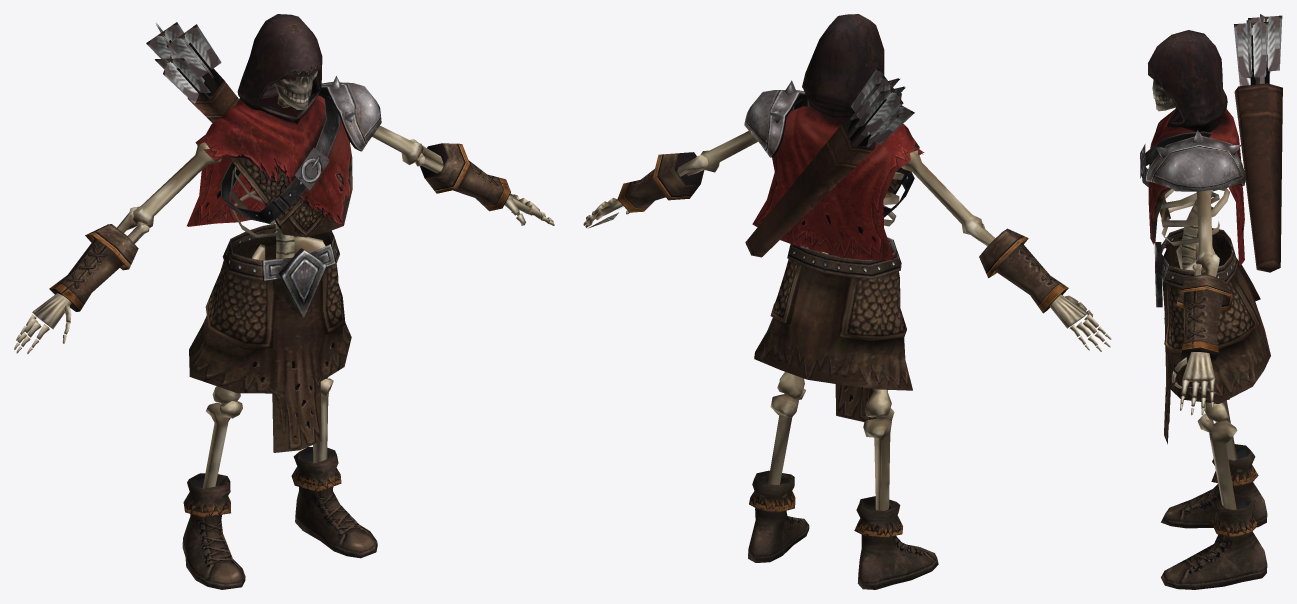
The model's file is Archer.fbx.
3 views of the same model, side by side, from view 1: azimuth 30°, elevation 25°; view 2: azimuth 150°, elevation 25°; view 3: azimuth 270°, elevation 25° (orthographic). The views are drawn at different scales.
Parts seen in each view (by area): view 1: Monster_Skeleton_Archer_Vari01_Body; view 2: Monster_Skeleton_Archer_Vari01_Body; view 3: Monster_Skeleton_Archer_Vari01_Body.
Part boxes in pixels (<box>): Monster_Skeleton_Archer_Vari01_Body: <box>14,14,554,589</box>; Monster_Skeleton_Archer_Vari01_Body: <box>583,14,1111,589</box>; Monster_Skeleton_Archer_Vari01_Body: <box>1140,14,1282,589</box>.
Bounding box in the file's own units: 186 × 180 × 45.06.
